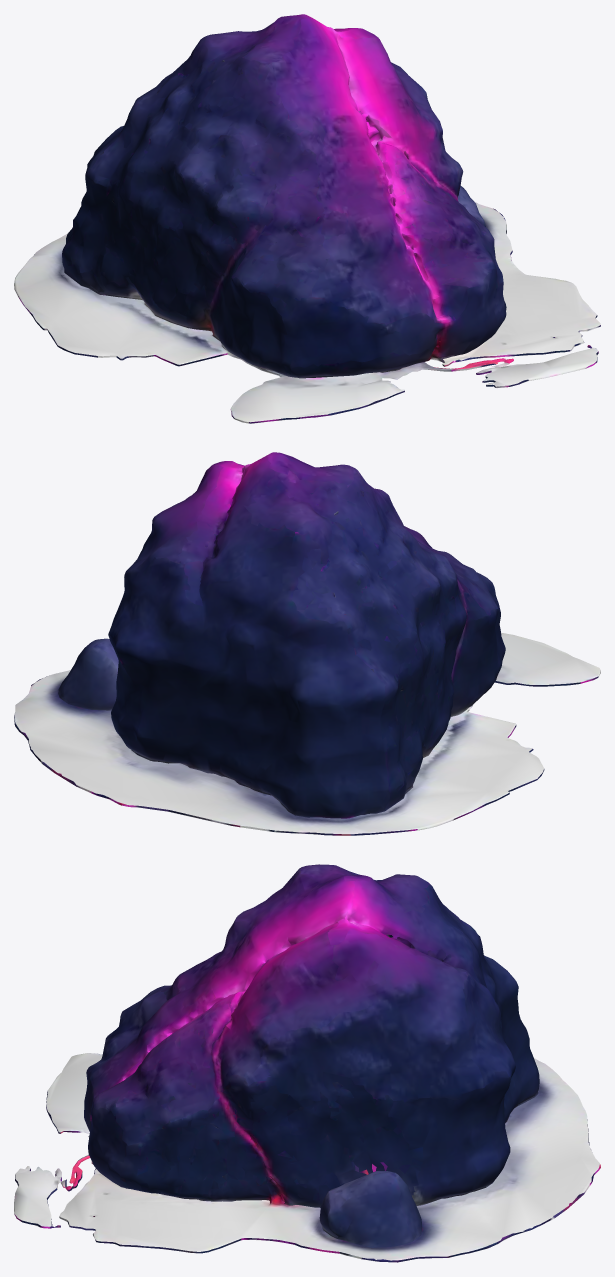
The model's file is shore-stone-8-generated-2026-05-17T20-13-33-277Z.low.glb.
3 views of the same model, one above another, from view 1: azimuth 30°, elevation 25°; view 2: azimuth 150°, elevation 25°; view 3: azimuth 270°, elevation 25° (orthographic). The views are drawn at different scales.
Visible parts, largest first — view 1: temp_mesh.ply; view 2: temp_mesh.ply; view 3: temp_mesh.ply.
Boxes of the visible parts, x1,y1,x2,y2 form: temp_mesh.ply: (14, 14, 600, 423); temp_mesh.ply: (14, 452, 600, 835); temp_mesh.ply: (14, 864, 600, 1262).
Bounding box in the file's own units: 1.89 × 1.02 × 1.97.
1 material, 1 textured.
